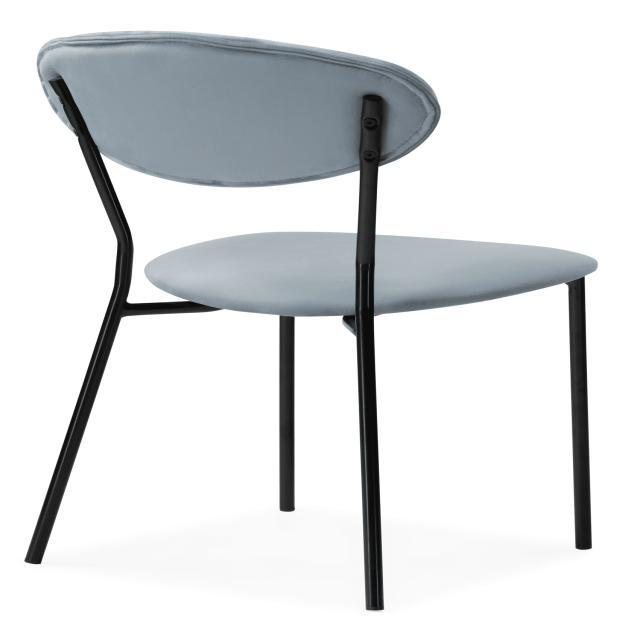chair: (22, 24, 606, 606)
